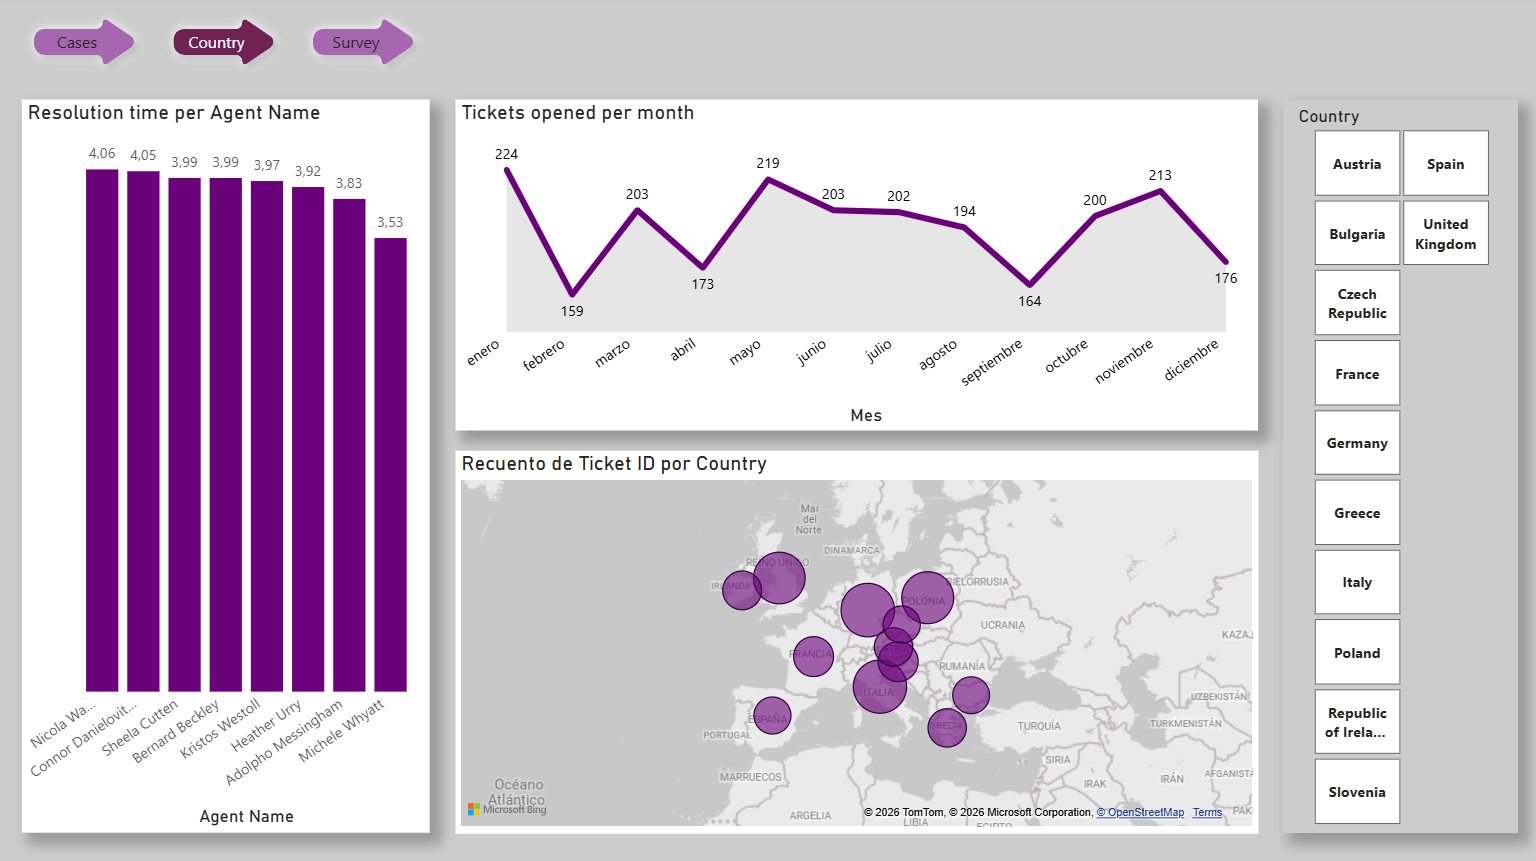

The page's visual inventory and layout, read from the dashboard file:
{"tool":"powerbi","page":{"name":"Country","canvas":[1280,720],"ordinal":1},"visuals":[{"type":"clusteredColumnChart","title":"Resolution time per Agent Name","fields":{"Category":["Tabla1.Agent Name"],"Y":["Avg(Tabla1.Tiempo de resolucion)"]},"box":[19.8,84.9,339.5,609.3],"z":0},{"type":"pageNavigator","box":[21.1,7,338.1,60.8],"z":1000},{"type":"lineChart","title":"Tickets opened per month","fields":{"Category":["Tabla1.Created time.Variación.Jerarquía de fechas.Mes"],"Y":["CountNonNull(Tabla1.Ticket ID)"]},"box":[380.2,84.9,667.4,275.6],"z":2000},{"type":"slicer","fields":{"Values":["Tabla1.Country"]},"box":[1068.6,84.9,195.3,609.3],"z":3000},{"type":"map","fields":{"Category":["Tabla1.Country"],"Size":["CountNonNull(Tabla1.Ticket ID)"]},"box":[380.2,376.7,667.4,317.4],"z":4000}]}

Visuals, with their boxes in screenshot pixels (x1, y1, x2, y2), scaled from the page's 1280x720 canvas onto the 1536x861 screenshot:
"Resolution time per Agent Name" clusteredColumnChart: (left=24, top=102, right=431, bottom=830)
pageNavigator: (left=25, top=8, right=431, bottom=81)
"Tickets opened per month" lineChart: (left=456, top=102, right=1257, bottom=431)
slicer - Tabla1.Country: (left=1282, top=102, right=1517, bottom=830)
map - Tabla1.Country x CountNonNull(Tabla1.Ticket ID): (left=456, top=450, right=1257, bottom=830)
